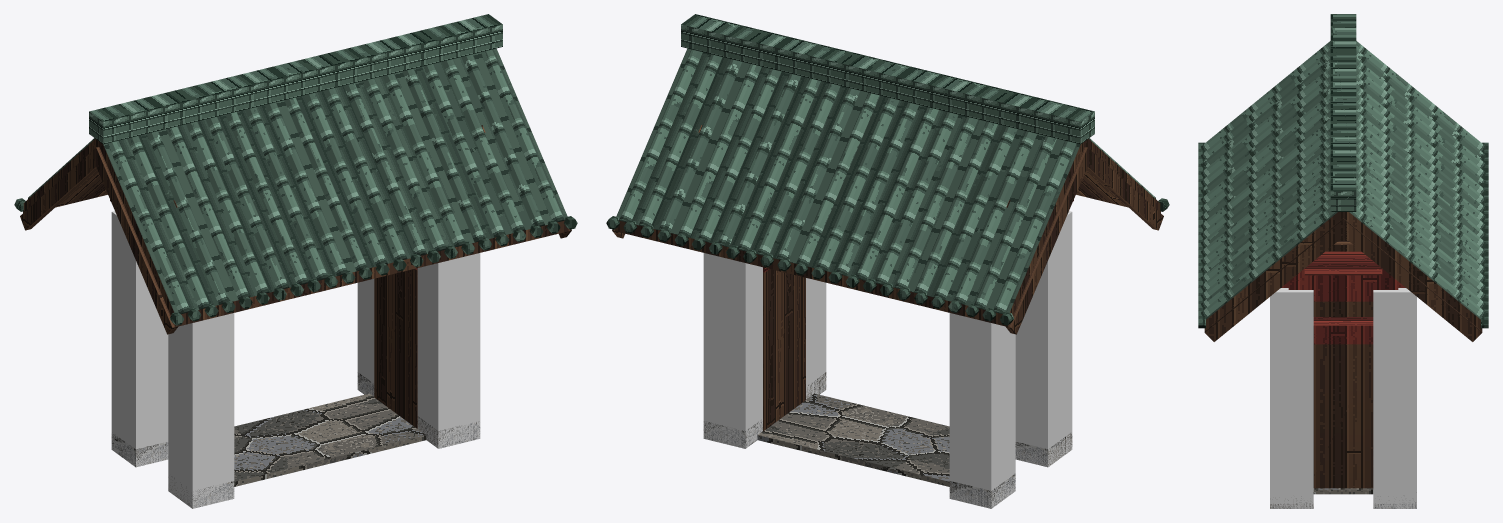
File: JP_Temple_Gate_A.glb
The picture shows the model from 3 angles, left to right: view 1: azimuth 30°, elevation 25°; view 2: azimuth 150°, elevation 25°; view 3: azimuth 270°, elevation 25°; orthographic projection. The views are drawn at different scales.
Visible parts, largest first — view 1: JP_Temple_Gate_A, COL_JP_Temple_Gate_A_04, COL_JP_Temple_Gate_A_24, COL_JP_Temple_Gate_A_020, COL_JP_Temple_Gate_A_220; view 2: JP_Temple_Gate_A, COL_JP_Temple_Gate_A_020, COL_JP_Temple_Gate_A_04, COL_JP_Temple_Gate_A_220, COL_JP_Temple_Gate_A_24; view 3: JP_Temple_Gate_A, COL_JP_Temple_Gate_A_24, COL_JP_Temple_Gate_A_220.
Part boxes in pixels (x1=…): JP_Temple_Gate_A: x1=14, y1=14, x2=577, y2=508; COL_JP_Temple_Gate_A_04: x1=168, y1=313, x2=234, y2=508; COL_JP_Temple_Gate_A_24: x1=417, y1=253, x2=480, y2=448; COL_JP_Temple_Gate_A_020: x1=111, y1=211, x2=168, y2=466; COL_JP_Temple_Gate_A_220: x1=357, y1=279, x2=374, y2=396; JP_Temple_Gate_A: x1=606, y1=14, x2=1169, y2=508; COL_JP_Temple_Gate_A_020: x1=949, y1=313, x2=1015, y2=508; COL_JP_Temple_Gate_A_04: x1=1015, y1=211, x2=1072, y2=467; COL_JP_Temple_Gate_A_220: x1=703, y1=253, x2=762, y2=448; COL_JP_Temple_Gate_A_24: x1=806, y1=278, x2=826, y2=398; JP_Temple_Gate_A: x1=1198, y1=14, x2=1488, y2=508; COL_JP_Temple_Gate_A_24: x1=1270, y1=288, x2=1313, y2=508; COL_JP_Temple_Gate_A_220: x1=1373, y1=288, x2=1416, y2=508.
Bounding box in the file's own units: 6.57 × 5.85 × 4.5.
7 materials, 7 textured.
